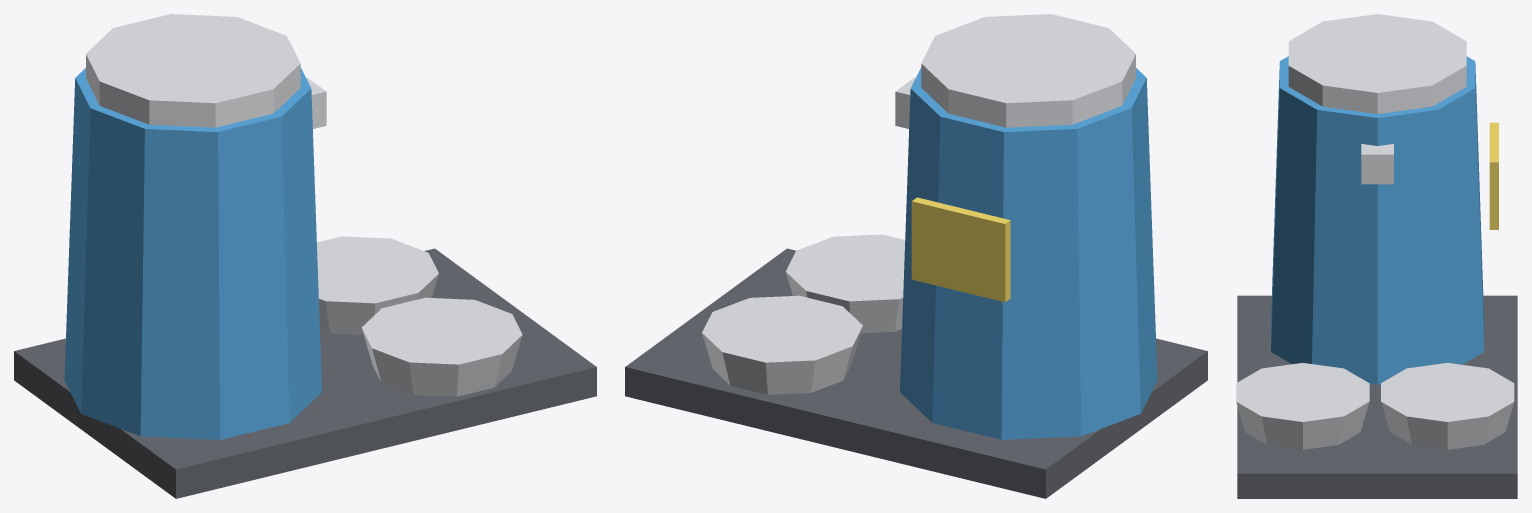
The model's file is dog-agility-and-training-field-water-station-9d34699c__35608.glb.
3 renders of one model, left to right at view 1: azimuth 30°, elevation 25°; view 2: azimuth 150°, elevation 25°; view 3: azimuth 270°, elevation 25°, orthographic. The views are drawn at different scales.
Parts seen in each view (by area): view 1: water-station-azure, water-station-steel, water-station-charcoal; view 2: water-station-azure, water-station-steel, water-station-charcoal, water-station-sunflower; view 3: water-station-azure, water-station-steel, water-station-charcoal, water-station-sunflower.
Boxes of the visible parts, x1=… form: water-station-azure: x1=64, y1=67, x2=321, y2=439; water-station-steel: x1=86, y1=14, x2=522, y2=396; water-station-charcoal: x1=14, y1=248, x2=596, y2=498; water-station-azure: x1=900, y1=67, x2=1157, y2=439; water-station-steel: x1=702, y1=14, x2=1135, y2=394; water-station-charcoal: x1=625, y1=248, x2=1207, y2=498; water-station-sunflower: x1=911, y1=197, x2=1010, y2=302; water-station-azure: x1=1271, y1=56, x2=1484, y2=384; water-station-steel: x1=1236, y1=14, x2=1514, y2=449; water-station-charcoal: x1=1237, y1=295, x2=1517, y2=498; water-station-sunflower: x1=1489, y1=122, x2=1498, y2=229.
Size of the model in its own units: 0.93 by 0.73 by 0.6027.
